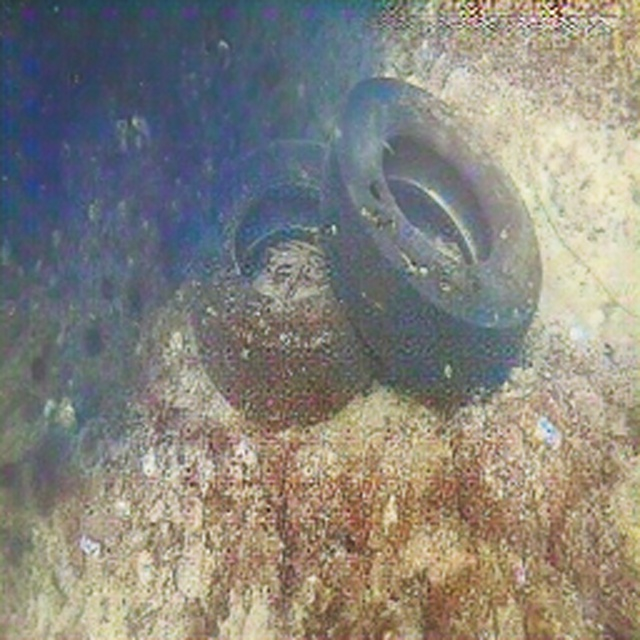mine: (318, 76, 543, 402), (188, 136, 391, 428)
